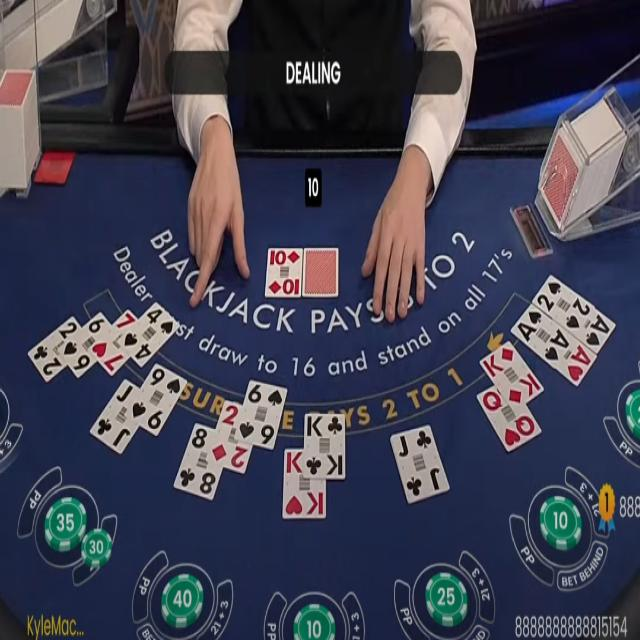Card-10: (265, 246, 303, 296)
Card-2: (27, 314, 80, 384), (533, 274, 593, 334), (206, 398, 252, 475)
Card-4: (117, 301, 179, 368)
Card-6: (234, 378, 287, 451), (57, 311, 110, 379)
Card-7: (88, 307, 137, 377)
Card-8: (173, 420, 222, 501)
Card-9: (125, 361, 187, 436)
Card-A: (510, 302, 574, 368), (555, 338, 597, 388), (575, 305, 616, 353)
Card-J: (390, 422, 449, 504), (89, 378, 139, 455)
Card-K: (479, 340, 544, 410), (283, 447, 325, 518), (303, 412, 345, 479)
Card-Q: (475, 385, 541, 453)
